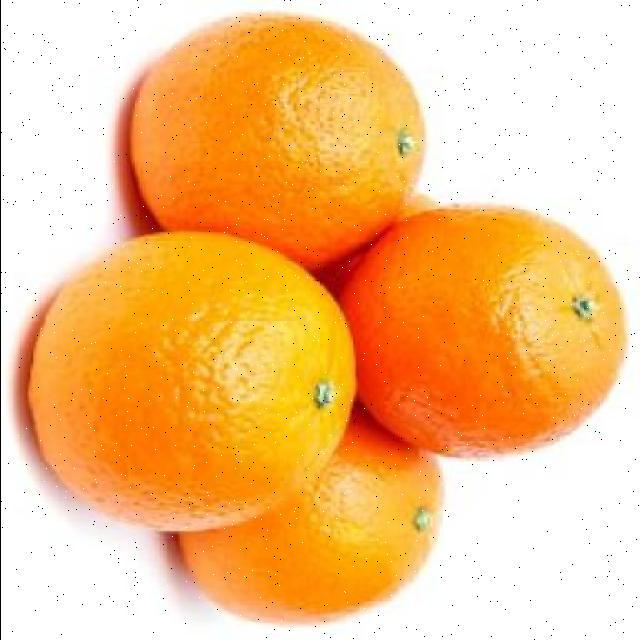Orange: (26, 230, 358, 532), (128, 11, 430, 269), (340, 203, 629, 459), (176, 404, 447, 626)
